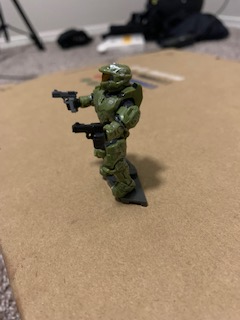chief: (66, 63, 143, 198)
pistol: (71, 120, 110, 150), (48, 87, 82, 113)
spartan: (64, 61, 141, 196)
